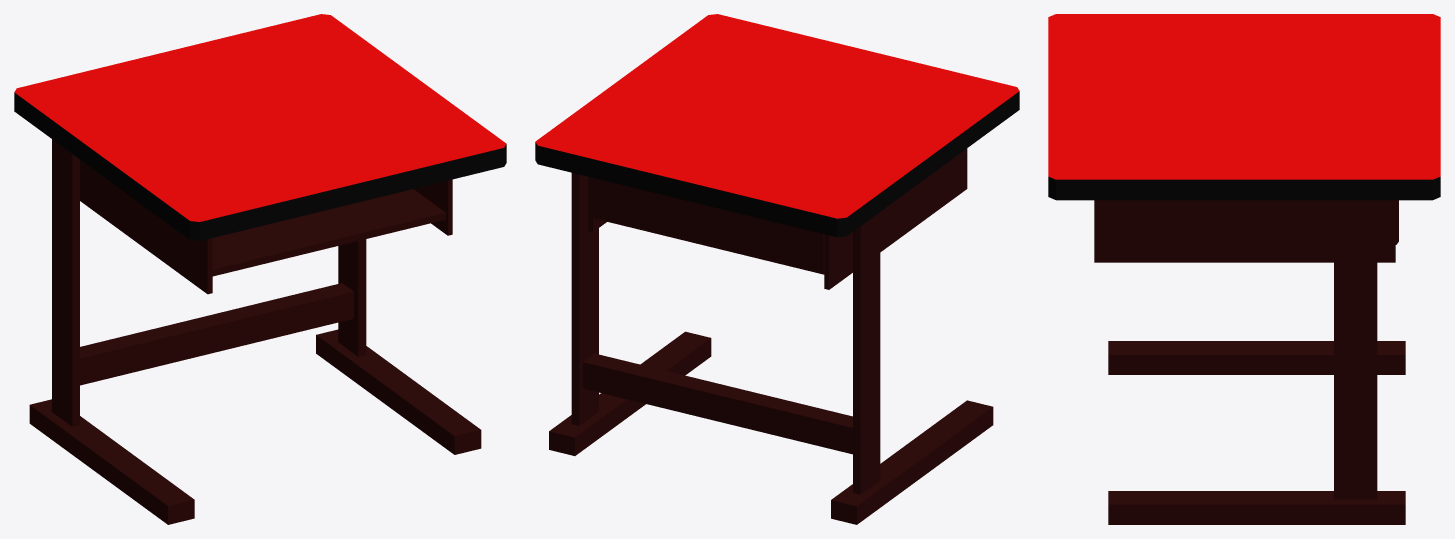
The model's file is Desk.glb.
The picture shows the model from 3 angles, left to right: view 1: azimuth 30°, elevation 25°; view 2: azimuth 150°, elevation 25°; view 3: azimuth 270°, elevation 25°; orthographic projection. The views are drawn at different scales.
Visible parts, largest first — view 1: Desk; view 2: Desk; view 3: Desk.
Part boxes in pixels (x1=…): Desk: x1=14, y1=14, x2=506, y2=524; Desk: x1=535, y1=14, x2=1019, y2=524; Desk: x1=1048, y1=14, x2=1440, y2=524.
Bounding box in the file's own units: 4.93 × 4.8 × 4.93.
